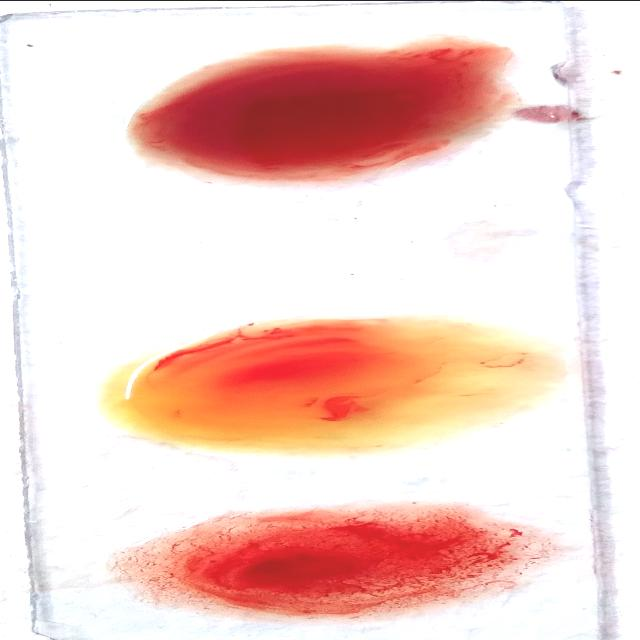D: (132, 510, 554, 615)
